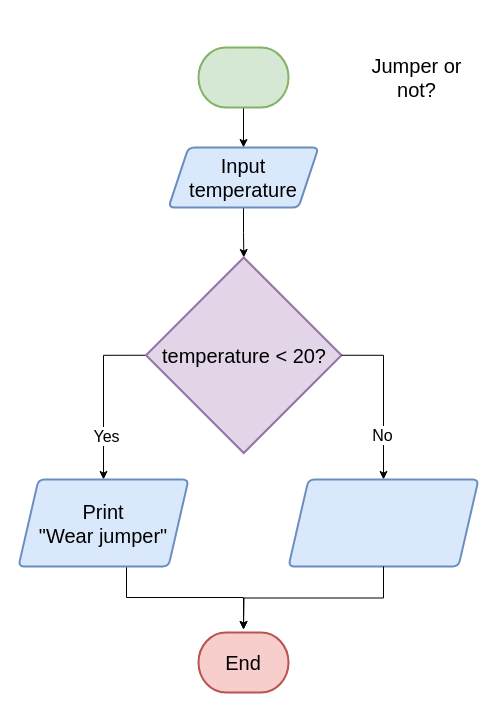
The diagram is 496 pixels wide and 710 high, and some of its shapes have lost their labels. The box of each missing label's shape, as (x1, y1, x2, y2) in pixels:
Print "No jumper": (287, 478, 479, 567)
Start: (197, 46, 289, 108)
